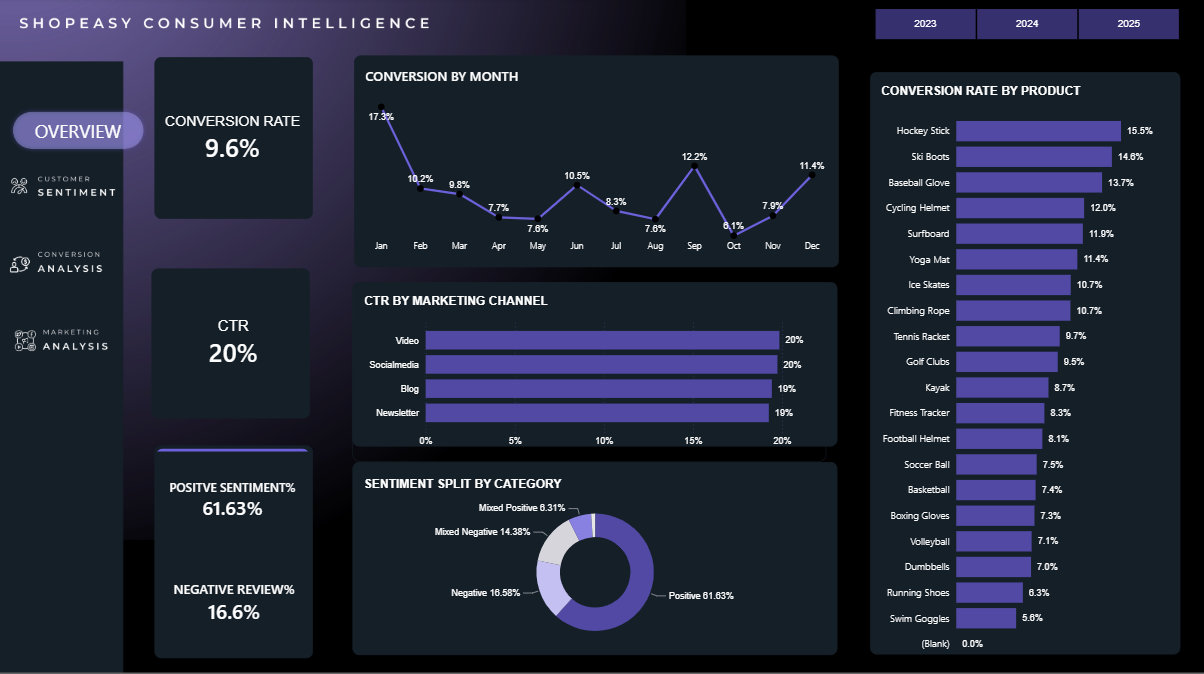

Layout of this report page (visuals, bound fields, positions):
{"tool":"powerbi","page":{"name":"overview","canvas":[1600,900],"ordinal":0},"visuals":[{"type":"shape","box":[0,159,149.2,49.2],"z":0},{"type":"shape","box":[208.2,78.7,209.8,214.8],"z":1000},{"type":"shape","box":[208.2,595.1,209.8,282],"z":2000},{"type":"shape","box":[1157.4,100,411.5,772.1],"z":3000},{"type":"shape","box":[472.4,78.2,642.6,280.7],"z":4000},{"type":"lineChart","title":"CONVERSION BY MONTH","fields":{"Category":["Calendar.MonthNameShort"],"Y":["calculations.Conversion Rate"]},"box":[472.4,78.2,642.6,280.7],"z":5000},{"type":"clusteredBarChart","title":"CONVERSION RATE BY PRODUCT","fields":{"Y":["calculations.Conversion Rate"],"Category":["products.ProductName"]},"box":[1157.4,100,411.5,800],"z":6000},{"type":"cardVisual","fields":{"Data":["negative_reviews_issues.neagtive review %"]},"box":[208.2,734.4,211.5,137.7],"z":7000},{"type":"shape","box":[472.1,616.4,642.6,255.7],"z":8000},{"type":"donutChart","title":"SENTIMENT SPLIT BY CATEGORY","fields":{"Category":["customer_reviews_sentiment.SentimentCategory"],"Y":["CountNonNull(customer_reviews_sentiment.ReviewID)"]},"box":[472.1,621.3,642.6,255.7],"z":9000},{"type":"cardVisual","fields":{"Data":["calculations.Conversion Rate"]},"box":[211.5,95.1,203.3,186.9],"z":10000},{"type":"cardVisual","fields":{"Data":["calculations.% Positive Sentiment"]},"box":[211.7,598.2,204,136.5],"z":11000},{"type":"shape","box":[204.9,359,209.8,198.4],"z":12000},{"type":"shape","box":[472.1,377,642.6,218],"z":13000},{"type":"clusteredBarChart","title":"CTR BY MARKETING CHANNEL","fields":{"Category":["engagement_data_cleaned.ContentType"],"Y":["calculations.CTR"]},"box":[472.1,378.7,627.9,237.7],"z":14000},{"type":"cardVisual","fields":{"Data":["calculations.CTR"]},"box":[208.2,359,209.8,198.4],"z":15000},{"type":"slicer","fields":{"Values":["Calendar.Date.Variation.Date Hierarchy.Year"]},"box":[1142.6,13.1,442.6,44.3],"z":16000},{"type":"shape","box":[0,131.9,214.7,90.5],"z":17000},{"type":"actionButton","box":[11.5,223,157.4,59],"z":18000},{"type":"actionButton","box":[11.5,329.5,157.4,59],"z":19000},{"type":"actionButton","box":[11.5,421.3,157.4,59],"z":20000},{"type":"pageNavigator","box":[0,208.2,183.6,303.3],"z":21000}]}

Visuals, with their boxes in screenshot pixels (x1, y1, x2, y2), scaled from the page's 1600x900 canvas onto the 1204x674 screenshot:
shape: pyautogui.locateOnScreen(0, 119, 112, 156)
shape: pyautogui.locateOnScreen(157, 59, 315, 220)
shape: pyautogui.locateOnScreen(157, 446, 315, 657)
shape: pyautogui.locateOnScreen(871, 75, 1181, 653)
shape: pyautogui.locateOnScreen(355, 59, 839, 269)
"CONVERSION BY MONTH" lineChart: pyautogui.locateOnScreen(355, 59, 839, 269)
"CONVERSION RATE BY PRODUCT" clusteredBarChart: pyautogui.locateOnScreen(871, 75, 1181, 673)
cardVisual - negative_reviews_issues.neagtive review %: pyautogui.locateOnScreen(157, 550, 316, 653)
shape: pyautogui.locateOnScreen(355, 462, 839, 653)
"SENTIMENT SPLIT BY CATEGORY" donutChart: pyautogui.locateOnScreen(355, 465, 839, 657)
cardVisual - calculations.Conversion Rate: pyautogui.locateOnScreen(159, 71, 312, 211)
cardVisual - calculations.% Positive Sentiment: pyautogui.locateOnScreen(159, 448, 313, 550)
shape: pyautogui.locateOnScreen(154, 269, 312, 417)
shape: pyautogui.locateOnScreen(355, 282, 839, 446)
"CTR BY MARKETING CHANNEL" clusteredBarChart: pyautogui.locateOnScreen(355, 284, 828, 462)
cardVisual - calculations.CTR: pyautogui.locateOnScreen(157, 269, 315, 417)
slicer - Calendar.Date.Variation.Date Hierarchy.Year: pyautogui.locateOnScreen(860, 10, 1193, 43)
shape: pyautogui.locateOnScreen(0, 99, 162, 167)
actionButton: pyautogui.locateOnScreen(9, 167, 127, 211)
actionButton: pyautogui.locateOnScreen(9, 247, 127, 291)
actionButton: pyautogui.locateOnScreen(9, 316, 127, 360)
pageNavigator: pyautogui.locateOnScreen(0, 156, 138, 383)
